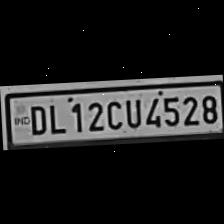1: (64, 99, 82, 134)
2: (82, 97, 104, 132), (178, 92, 198, 126)
4: (140, 92, 160, 128)
5: (158, 92, 180, 126)
8: (197, 91, 219, 125)
C: (102, 96, 122, 130)
D: (23, 102, 48, 136)
L: (43, 100, 65, 134)
U: (122, 94, 142, 128)
